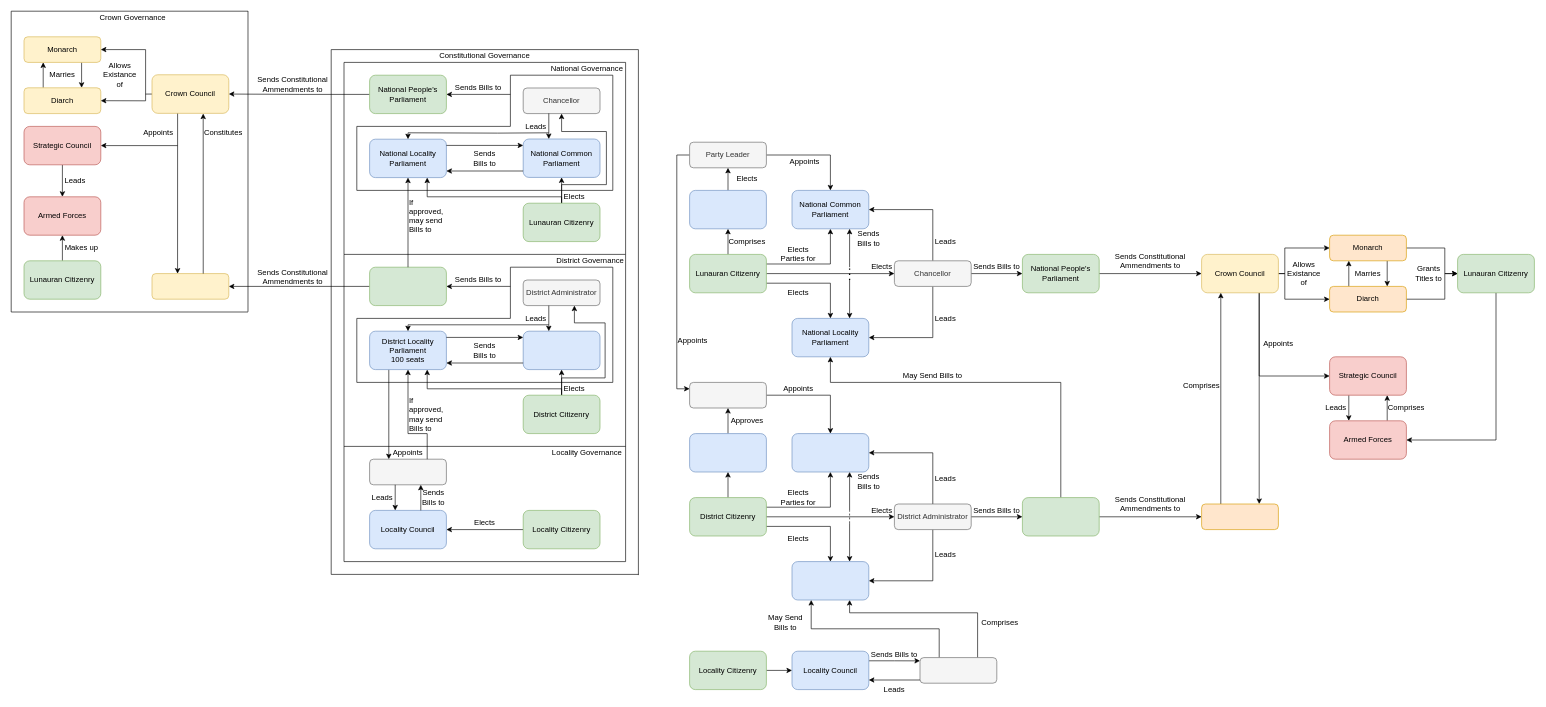
The diagram is 1546 pixels wide and 707 high, and some of its shapes have lost their labels. Each missing label, with the box of its shape:
Crown Regent: (1201, 503, 1278, 530)
District Common Parliament: (791, 433, 869, 472)
District Common Parliament 100 seats: (523, 331, 600, 370)
District Locality Parliament: (791, 561, 869, 600)
District Party Leader: (689, 382, 766, 408)
District Party Members: (689, 433, 766, 472)
District People's Parliament: (1022, 497, 1099, 536)
District People's Parliament 100 seats: (369, 267, 446, 306)
Locality Governer: (919, 657, 997, 683)
Locality Governor: (369, 459, 446, 485)
Lord Regent: (151, 273, 229, 299)
Party Members: (689, 190, 766, 229)
